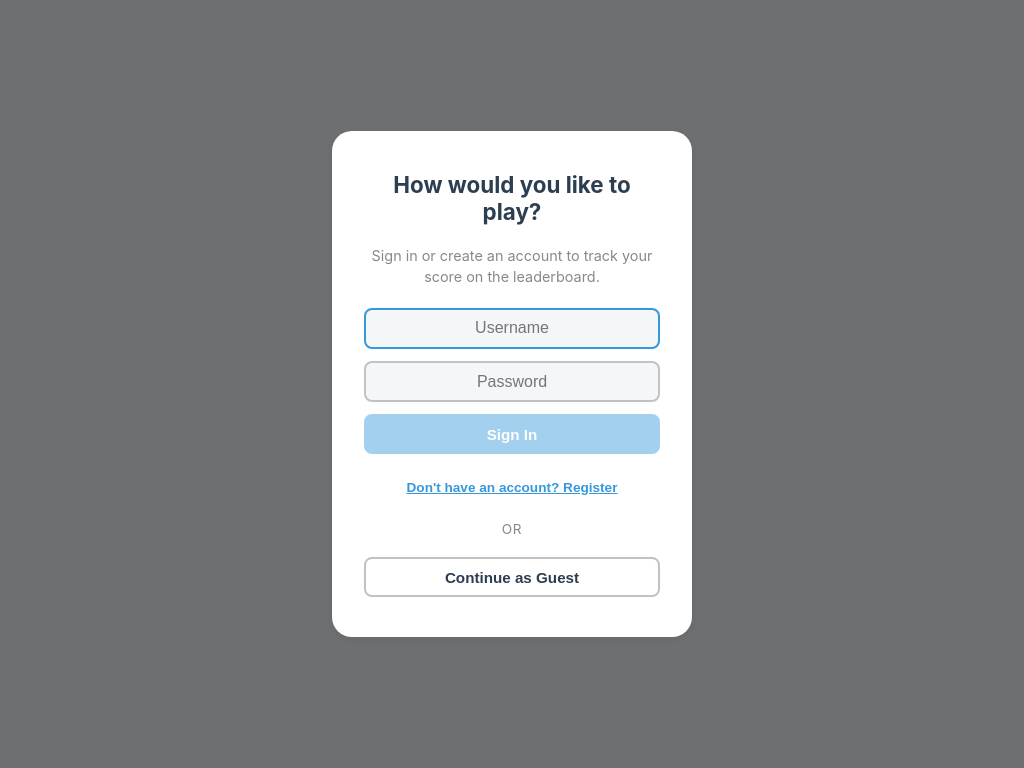
Test: AuthModal — login mode › sign-in button is enabled when username and password are filled
This screenshot has width=1024, height=768.
Step 1. Type "alice" into the field labelled "Username" → (512, 328), box 364,308 -> 660,349
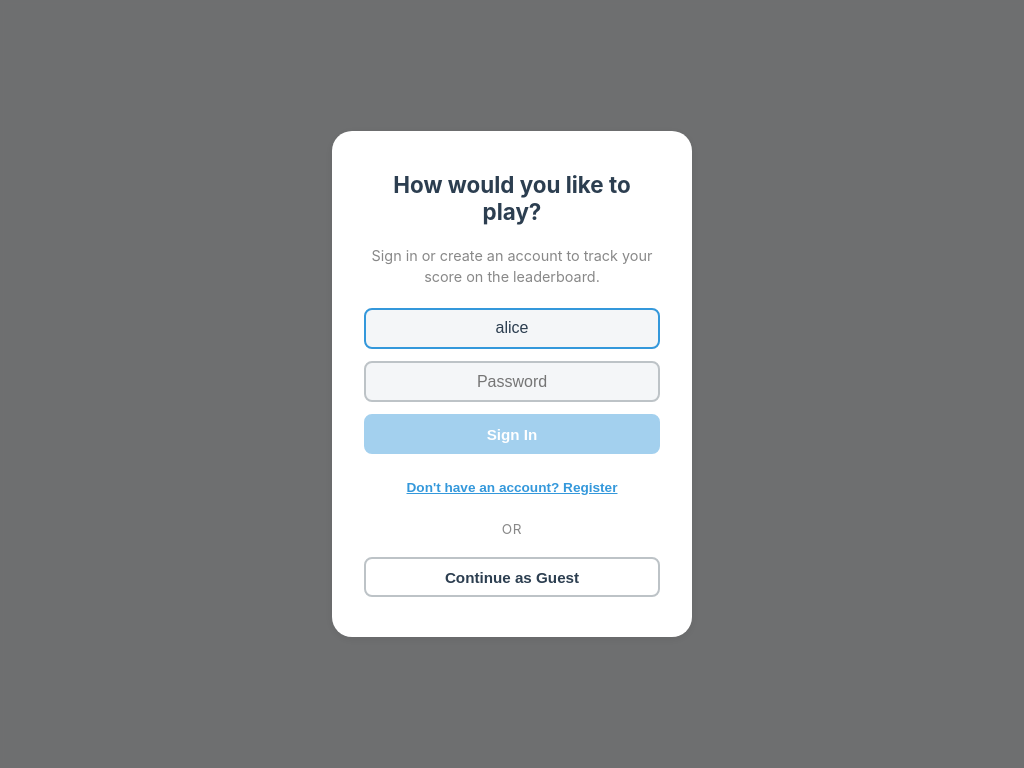
Step 2. Type "pass123" into the password field labelled "Password" → (512, 382), box 364,361 -> 660,402
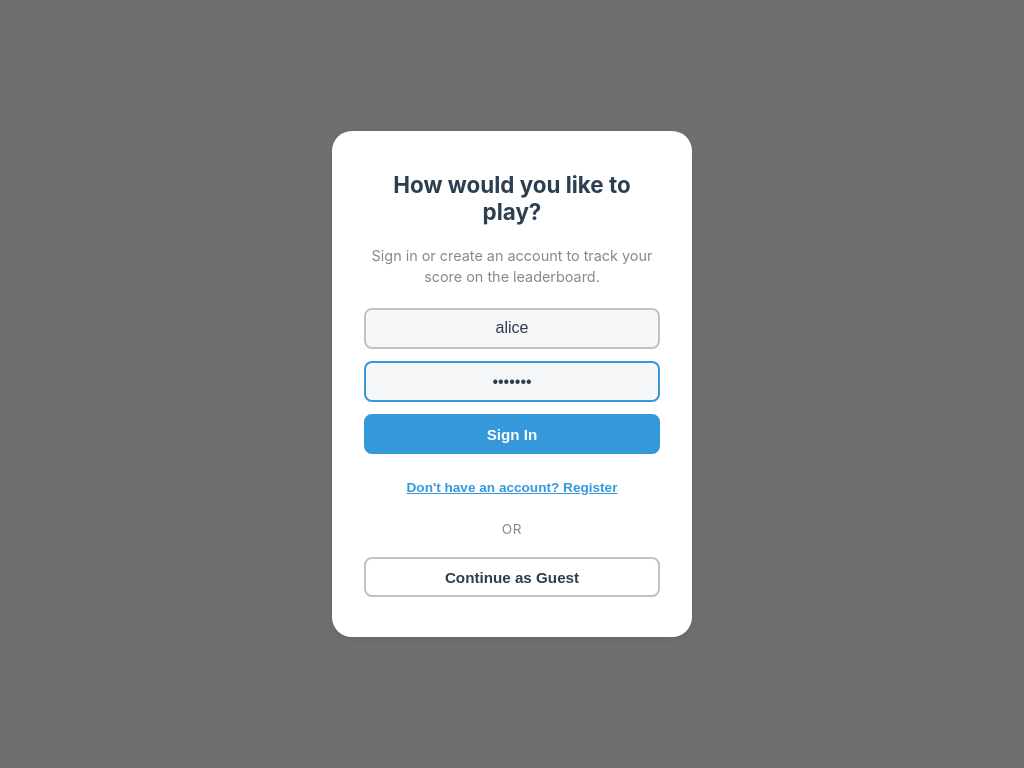
Result: the button "Sign In" is enabled at 364,414 -> 660,454
